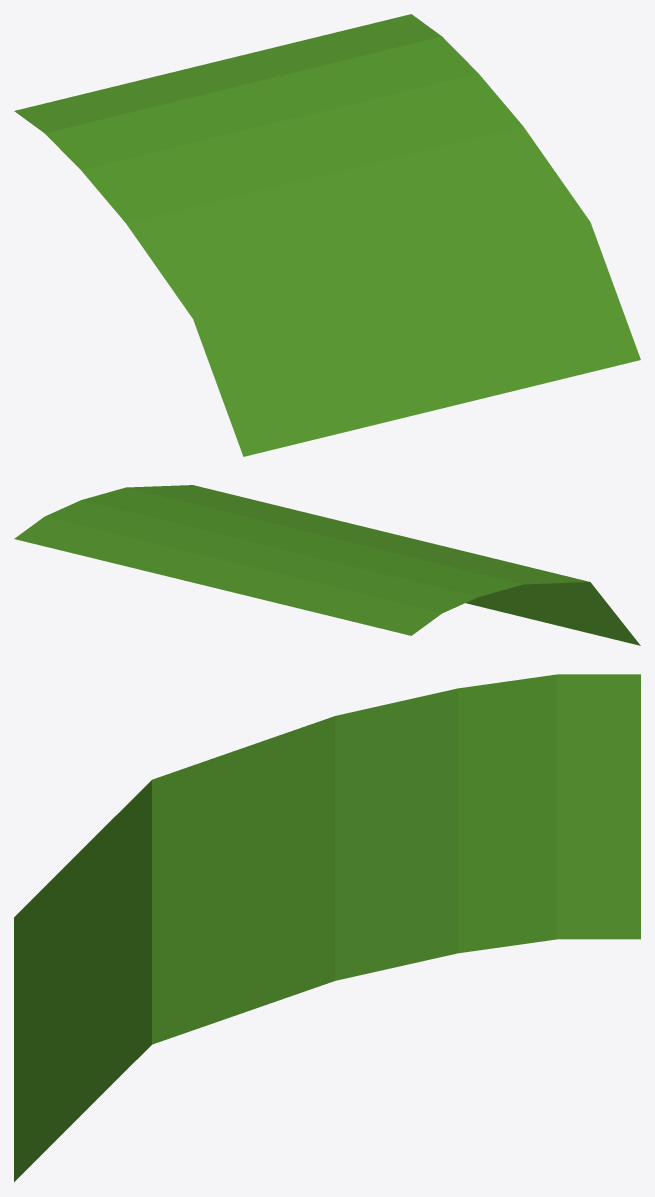
The model's file is DownHill.fbx.
3 views of the same model, one above another, from view 1: azimuth 30°, elevation 25°; view 2: azimuth 150°, elevation 25°; view 3: azimuth 270°, elevation 25° (orthographic). The views are drawn at different scales.
Visible parts, largest first — view 1: DownHill; view 2: DownHill; view 3: DownHill.
Boxes of the visible parts, x1,y1,x2,y2 form: DownHill: [14, 14, 640, 456]; DownHill: [14, 485, 640, 645]; DownHill: [14, 674, 640, 1181].
Bounding box in the file's own units: 500 × 214 × 500.
